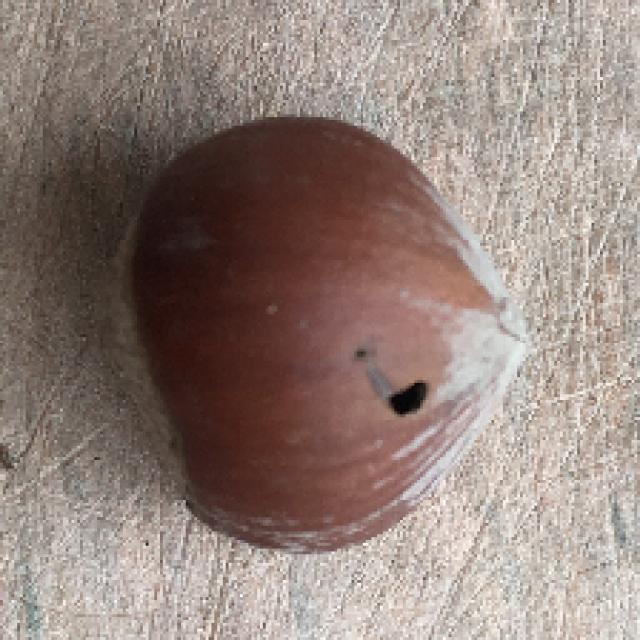damagedHazelnut: (103, 110, 521, 554)
